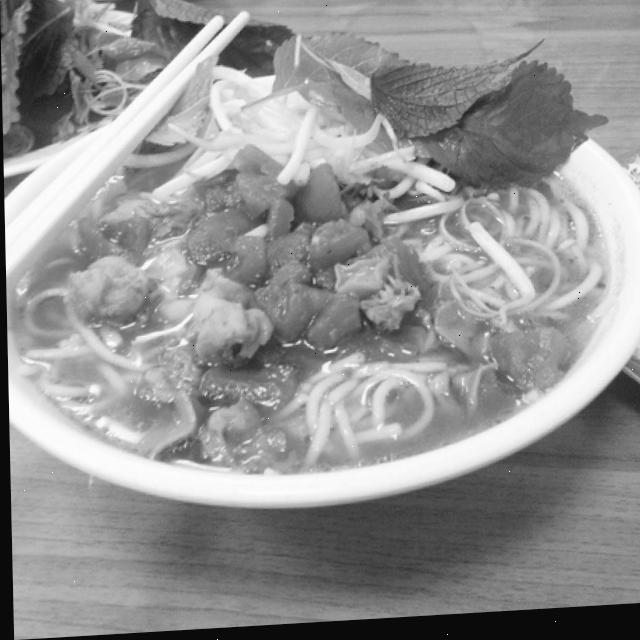面条主食: (0, 0, 640, 526)
